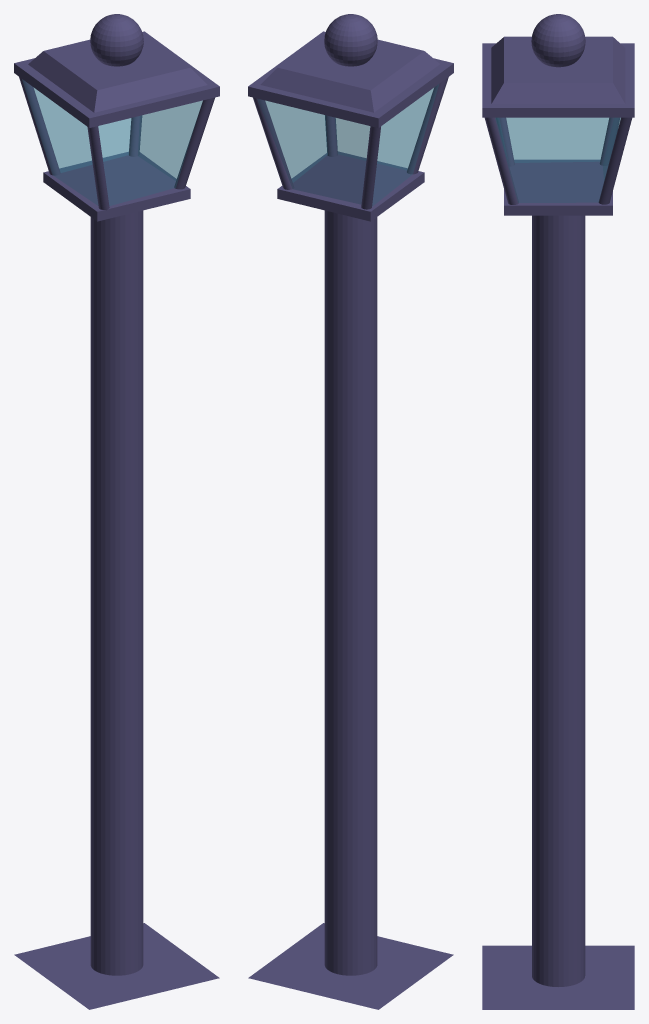
Rendered from poste_top.obj.
3 views of the same model, side by side, from view 1: azimuth 30°, elevation 25°; view 2: azimuth 150°, elevation 25°; view 3: azimuth 270°, elevation 25° (orthographic).
Parts seen in each view (by area): view 1: Cylinder, Cube.001_Cube.002, Plane, Cube_Cube.001, Cube.003_Cube.007, Cube.002_Cube.005, Sphere, Cylinder.002, Cylinder.004, Cylinder.005; view 2: Cylinder, Cube.001_Cube.002, Plane, Cube_Cube.001, Cube.003_Cube.007, Cube.002_Cube.005, Sphere, Cylinder.005, Cylinder.003, Cylinder.002; view 3: Cylinder, Cube.001_Cube.002, Plane, Cube_Cube.001, Cube.003_Cube.007, Cube.002_Cube.005, Sphere, Cylinder.004, Cylinder.003, Cylinder.002, Cylinder.005.
Boxes of the visible parts, x1,y1,x2,y2 form: Cylinder: (90, 210, 143, 975); Cube.001_Cube.002: (22, 79, 202, 205); Plane: (14, 923, 219, 1009); Cube_Cube.001: (28, 32, 207, 112); Cube.003_Cube.007: (43, 152, 190, 221); Cube.002_Cube.005: (14, 31, 219, 127); Sphere: (90, 14, 143, 66); Cylinder.002: (19, 77, 60, 175); Cylinder.004: (174, 97, 215, 189); Cylinder.005: (87, 126, 109, 210); Cylinder: (324, 210, 377, 975); Cube.001_Cube.002: (258, 84, 438, 206); Plane: (248, 923, 453, 1009); Cube_Cube.001: (260, 32, 439, 112); Cube.003_Cube.007: (277, 151, 424, 221); Cube.002_Cube.005: (248, 31, 453, 127); Sphere: (324, 14, 377, 66); Cylinder.005: (407, 77, 448, 174); Cylinder.003: (253, 97, 294, 189); Cylinder.002: (361, 126, 380, 209); Cylinder: (532, 215, 585, 986); Cube.001_Cube.002: (495, 117, 620, 202); Plane: (482, 945, 634, 1009); Cube_Cube.001: (491, 36, 625, 103); Cube.003_Cube.007: (504, 160, 612, 215); Cube.002_Cube.005: (482, 43, 634, 117); Sphere: (531, 14, 585, 67); Cylinder.004: (484, 117, 518, 204); Cylinder.003: (598, 117, 632, 204); Cylinder.002: (600, 117, 619, 165); Cylinder.005: (496, 117, 514, 166).
Bounding box in the file's own units: 2.8 × 19.47 × 2.8.
